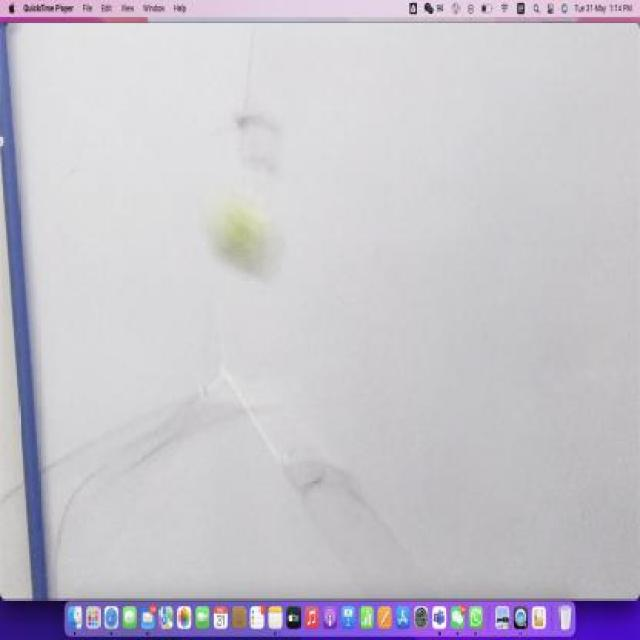baseball: (216, 200, 272, 275)
